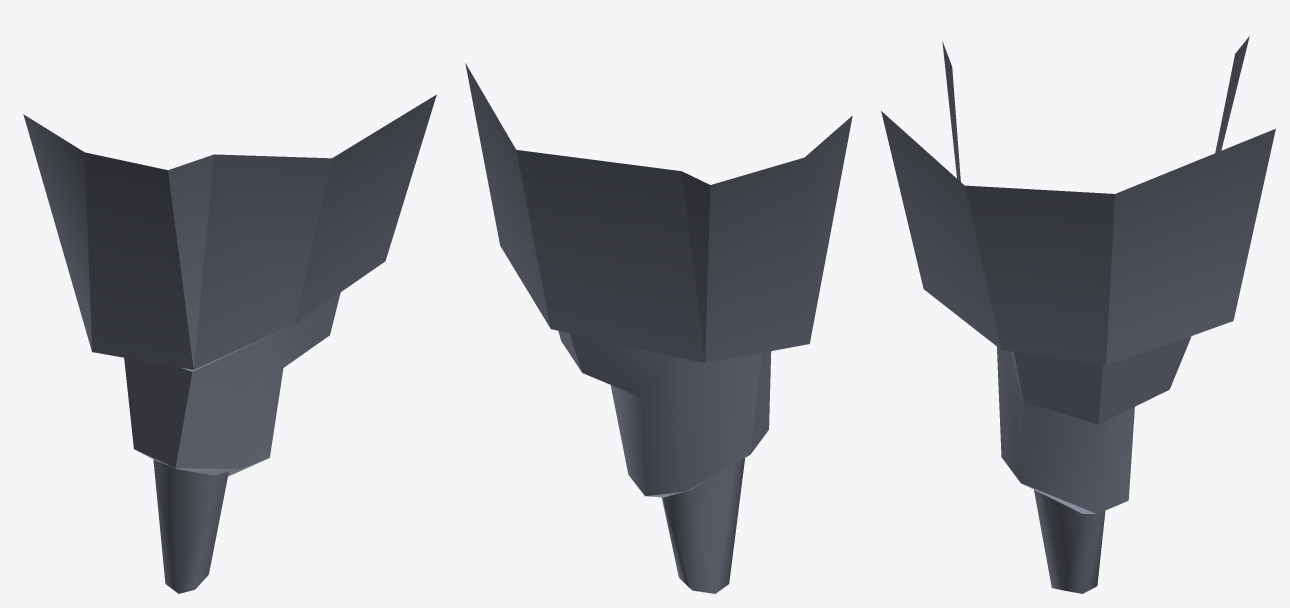
File: RockStalactite.glb
The picture shows the model from 3 angles, left to right: view 1: azimuth 30°, elevation 25°; view 2: azimuth 150°, elevation 25°; view 3: azimuth 270°, elevation 25°; orthographic projection. The views are drawn at different scales.
Parts seen in each view (by area): view 1: RockStalactite; view 2: RockStalactite; view 3: RockStalactite.
Part boxes in pixels (bbox=[...]): RockStalactite: bbox=[23, 94, 436, 593]; RockStalactite: bbox=[465, 63, 852, 593]; RockStalactite: bbox=[881, 36, 1275, 593].
Size of the model in its own units: 2.94 by 3.88 by 2.73.
